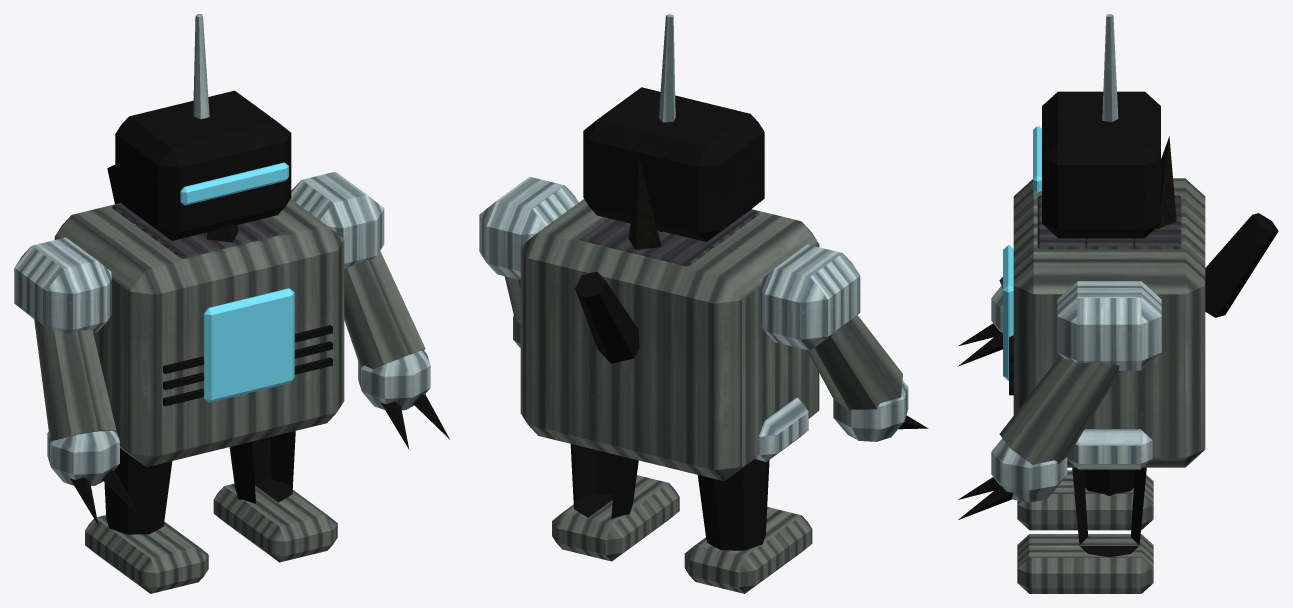
The model's file is mon_sp_dome_colossus.glb.
3 views of the same model, side by side, from view 1: azimuth 30°, elevation 25°; view 2: azimuth 150°, elevation 25°; view 3: azimuth 270°, elevation 25° (orthographic). The views are drawn at different scales.
Visible parts, largest first — view 1: mon_sp_dome_colossus; view 2: mon_sp_dome_colossus; view 3: mon_sp_dome_colossus.
Boxes of the visible parts, <box> form: mon_sp_dome_colossus: <box>14,14,449,593</box>; mon_sp_dome_colossus: <box>479,14,928,593</box>; mon_sp_dome_colossus: <box>958,14,1278,593</box>.
Bounding box in the file's own units: 1.98 × 2.65 × 1.44.
Materials: 6 (6 with a texture image).
